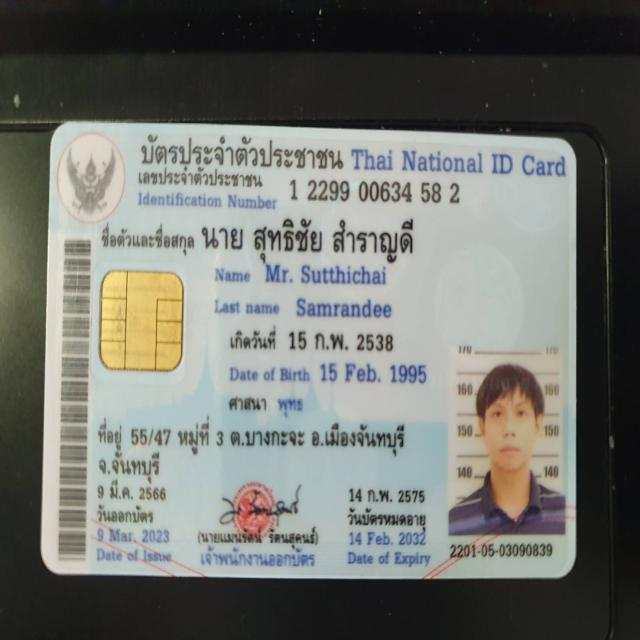Address_th: (91, 411, 416, 484)
Date_of_Birth: (316, 354, 431, 391)
Date_of_Expiry: (344, 528, 433, 553)
Date_of_Issue: (95, 525, 175, 548)
First_Name: (266, 262, 388, 288)
ID_Number: (282, 174, 469, 212)
Image: (447, 342, 567, 536)
Last_Name: (289, 292, 397, 326)
Thai_Name: (193, 214, 425, 264)
